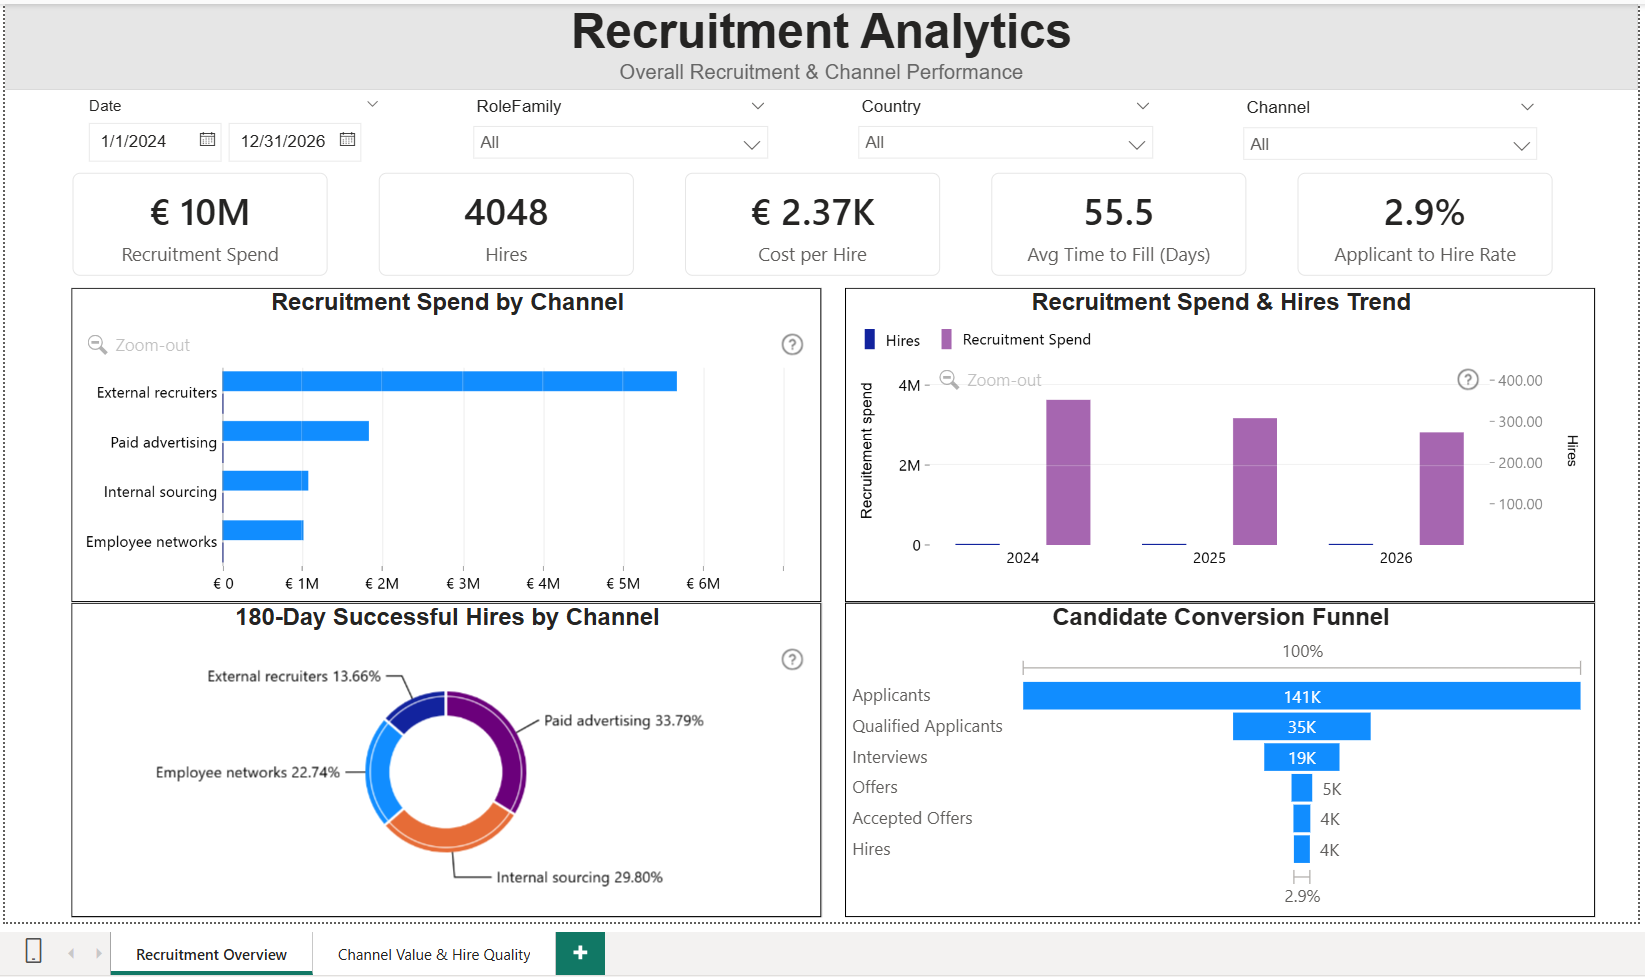

This screenshot's page, from the dashboard's own definition file:
{"tool":"powerbi","page":{"name":"Recruitment Overview","canvas":[1280,720],"ordinal":0},"visuals":[{"type":"shape","box":[0,0,1280,67.1],"z":1000},{"type":"textbox","title":"Recruitment Analytics","box":[0,0,1280,47.5],"z":2000},{"type":"textbox","title":"Overall Recruitment & Channel Performance","box":[0,44.3,1280,22.9],"z":3000},{"type":"slicer","fields":{"Values":["DimDate.Date"]},"box":[52.9,67.1,252.9,61.4],"z":4000},{"type":"slicer","fields":{"Values":["DimRole.RoleFamily"]},"box":[356.2,67.1,251.4,61],"z":5000},{"type":"slicer","fields":{"Values":["DimLocation.Country"]},"box":[658.1,67.1,251.4,61.4],"z":6000},{"type":"slicer","fields":{"Values":["DimChannel.Channel"]},"box":[960.5,68.6,251.2,61.6],"z":7000},{"type":"card","fields":{"Values":["_Measures.Hires"]},"box":[292.8,132.7,200,81],"z":8000},{"type":"card","fields":{"Values":["_Measures.Recruitment Spend"]},"box":[52.8,132.7,200,81],"z":9000},{"type":"card","fields":{"Values":["_Measures.Cost per Hire"]},"box":[532.9,132.7,200,81],"z":10000},{"type":"card","fields":{"Values":["_Measures.Applicant to Hire Rate"]},"box":[1012.8,132.7,200,81],"z":11000},{"type":"card","fields":{"Values":["_Measures.Avg Time to Fill"]},"box":[772.8,132.7,200,81],"z":12000},{"type":"ZoomChartsDrillDownComboBarProE77E4ED357DC402ABA005987437CF8","title":"Recruitment Spend by Channel","fields":{"Category":["DimChannel.ChannelGroup","DimChannel.Channel","DimChannel.Provider"],"Values1":["_Measures.Recruitment Spend"],"Values2":["_Measures.Hires"],"tooltipContent":["_Measures.Cost per Hire","_Measures.Avg Time to Fill (Days)","_Measures.Applicant to Hire Rate"]},"box":[52.3,222.1,588.4,246],"z":13000},{"type":"ZoomChartsFacetChartPaidE77E4ED357DC402ABA005987437CF500","title":"Recruitment Spend & Hires Trend","fields":{"Category":["DimDate.Year","DimDate.Quarter","DimDate.Month"],"Values1":["_Measures.Recruitment Spend"],"Values2":["_Measures.Hires"]},"box":[658.1,222.1,588,246],"z":14000},{"type":"ZoomChartsPieChartPaidE77E4ED357DC402ABA005987437CF500","title":"180-Day Successful Hires by Channel","fields":{"Category":["DimChannel.ChannelGroup","DimChannel.Channel","DimChannel.Provider"],"Values":["_Measures.180-Day Successful Hires"]},"box":[52.3,469.6,588,246],"z":15000},{"type":"funnel","title":"Candidate Conversion Funnel","fields":{"Category":["Funnel Stages.Stage"],"Y":["_Measures.Funnel Value"]},"box":[658.1,469.6,588,246],"z":16000}]}

Visuals, with their boxes on the page's 1280x720 design canvas (x1, y1, x2, y2). These are canvas units, not pixel positions in the 1645x977 screenshot, which may show the page scaled, cropped or inside an application window:
shape: BBox(0, 0, 1280, 67)
"Recruitment Analytics" textbox: BBox(0, 0, 1280, 48)
"Overall Recruitment & Channel Performance" textbox: BBox(0, 44, 1280, 67)
slicer - DimDate.Date: BBox(53, 67, 306, 128)
slicer - DimRole.RoleFamily: BBox(356, 67, 608, 128)
slicer - DimLocation.Country: BBox(658, 67, 910, 128)
slicer - DimChannel.Channel: BBox(960, 69, 1212, 130)
card - _Measures.Hires: BBox(293, 133, 493, 214)
card - _Measures.Recruitment Spend: BBox(53, 133, 253, 214)
card - _Measures.Cost per Hire: BBox(533, 133, 733, 214)
card - _Measures.Applicant to Hire Rate: BBox(1013, 133, 1213, 214)
card - _Measures.Avg Time to Fill: BBox(773, 133, 973, 214)
"Recruitment Spend by Channel" ZoomChartsDrillDownComboBarProE77E4ED357DC402ABA005987437CF8: BBox(52, 222, 641, 468)
"Recruitment Spend & Hires Trend" ZoomChartsFacetChartPaidE77E4ED357DC402ABA005987437CF500: BBox(658, 222, 1246, 468)
"180-Day Successful Hires by Channel" ZoomChartsPieChartPaidE77E4ED357DC402ABA005987437CF500: BBox(52, 470, 640, 716)
"Candidate Conversion Funnel" funnel: BBox(658, 470, 1246, 716)
